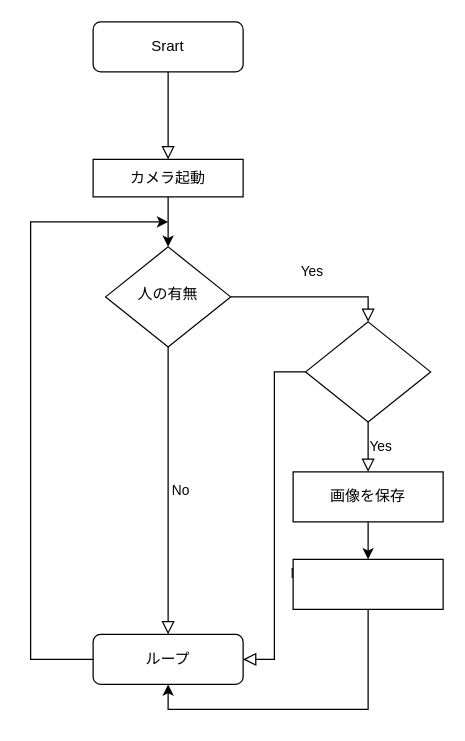
The diagram is 465 pixels wide and 741 high, and some of its shapes have lost their labels. Each missing label, with the box of its shape:
Slackへ通知: (292, 558, 443, 609)
一定時間いるか: (304, 321, 431, 422)
